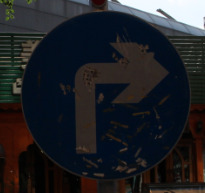right_turn: (20, 9, 190, 180)
